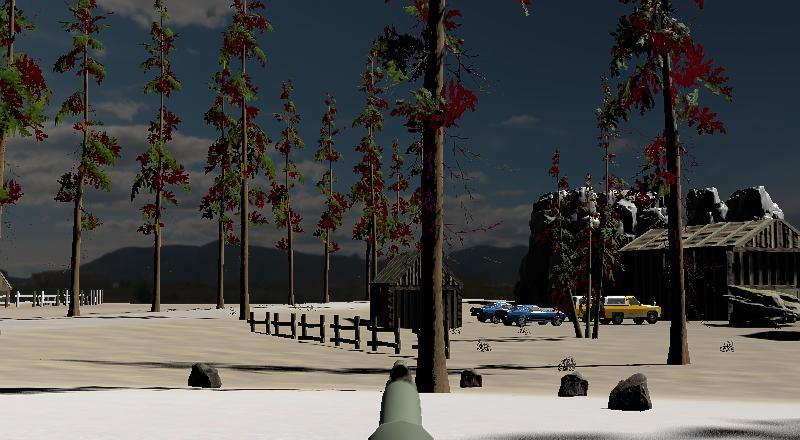House: (369, 249, 463, 330), (0, 268, 11, 308)
car: (586, 294, 662, 325), (502, 304, 567, 327), (470, 301, 513, 323), (569, 295, 588, 322)
